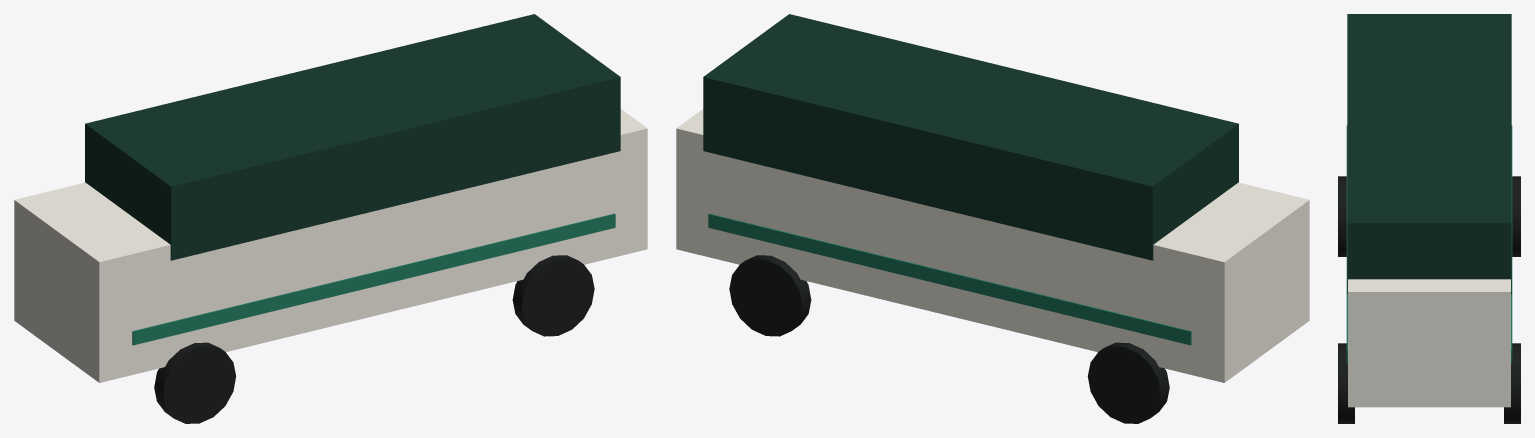
The model's file is paradiso.glb.
3 renders of one model, left to right at view 1: azimuth 30°, elevation 25°; view 2: azimuth 150°, elevation 25°; view 3: azimuth 270°, elevation 25°, orthographic. The views are drawn at different scales.
Size of the model in its own units: 7.8 by 3.25 by 2.36.
